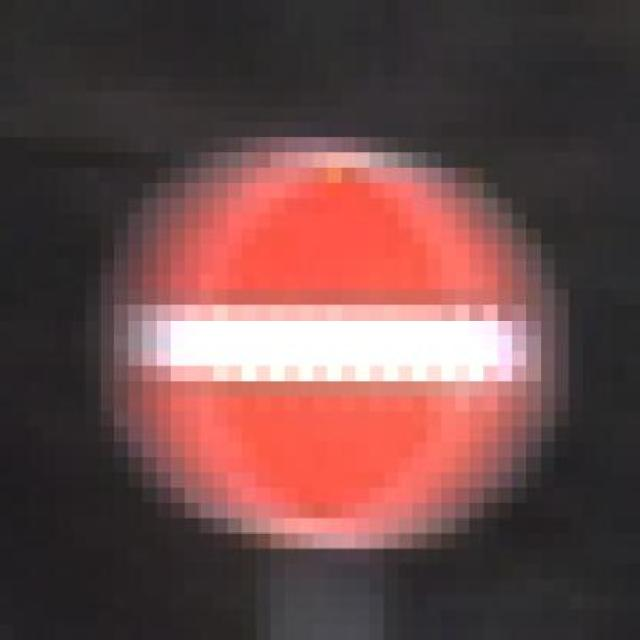No Entry: (85, 122, 569, 564)
